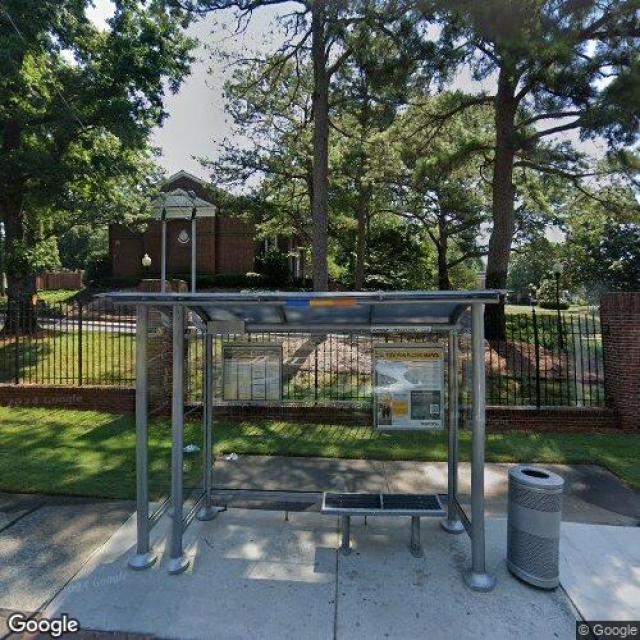seating: (320, 492, 448, 559)
shelter: (95, 288, 513, 594)
trash_can: (505, 464, 565, 591)
